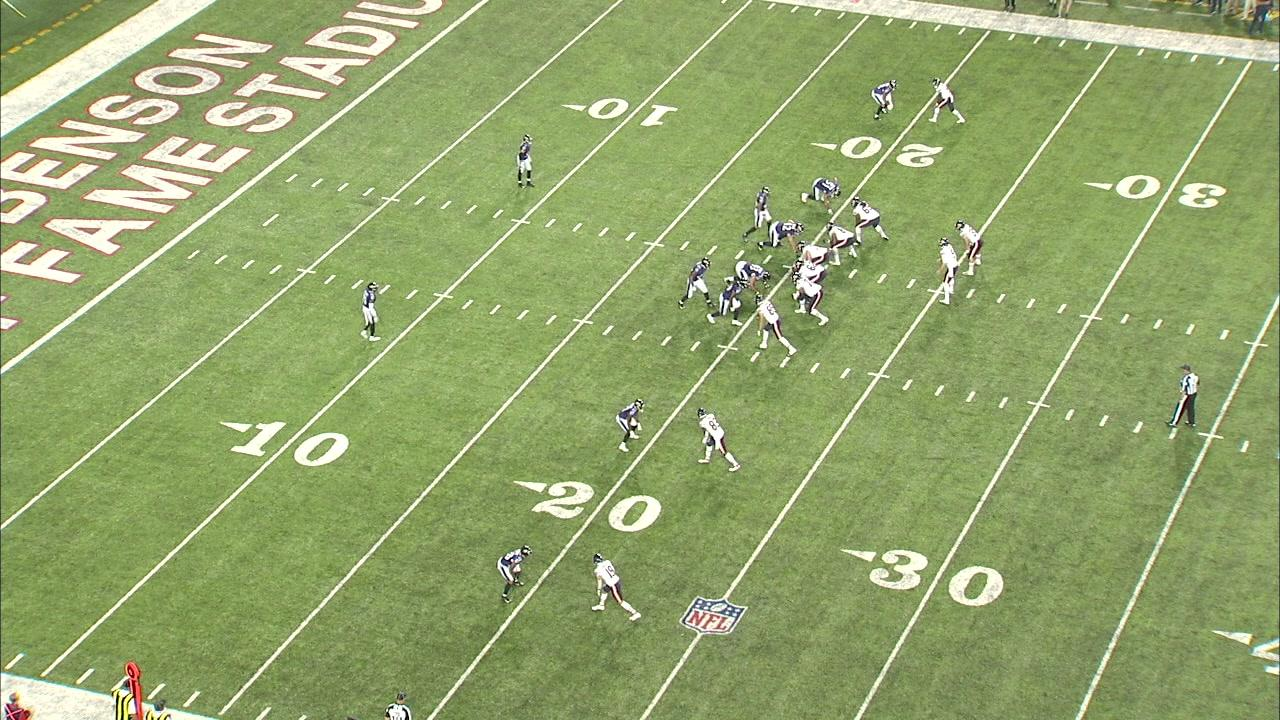five_hash: (1024, 399, 1052, 409), (1196, 430, 1224, 440), (571, 316, 594, 327), (641, 239, 666, 249), (431, 291, 455, 301), (716, 343, 739, 353), (1244, 339, 1267, 349), (294, 267, 319, 276), (866, 371, 891, 380), (1078, 313, 1102, 322), (509, 217, 532, 226), (380, 195, 402, 204), (928, 288, 948, 296)
hash: (1165, 425, 1183, 443), (996, 394, 1012, 410), (1062, 407, 1078, 423), (1130, 419, 1147, 434), (1236, 439, 1253, 454), (308, 175, 326, 189), (900, 377, 915, 393), (807, 360, 822, 375), (1096, 413, 1111, 428), (284, 171, 300, 185), (464, 202, 479, 216), (630, 329, 645, 343), (778, 355, 792, 370), (964, 389, 978, 404), (335, 180, 351, 193), (623, 229, 639, 242), (839, 365, 852, 381), (213, 253, 230, 265), (875, 271, 889, 285), (1217, 328, 1231, 342), (269, 262, 283, 276), (659, 334, 673, 348), (748, 350, 762, 364), (932, 383, 946, 397), (490, 206, 505, 219), (597, 225, 612, 238), (439, 198, 453, 211), (1055, 302, 1068, 316), (1119, 312, 1132, 326), (241, 258, 255, 271), (516, 308, 530, 321), (688, 340, 702, 353), (543, 217, 558, 229), (459, 298, 474, 310), (488, 303, 503, 315), (185, 250, 202, 260), (571, 220, 584, 233), (994, 292, 1007, 305), (1024, 297, 1037, 310), (1184, 323, 1197, 336), (602, 324, 615, 337), (1152, 317, 1164, 331), (544, 313, 558, 325), (847, 267, 859, 280), (323, 273, 336, 285), (361, 186, 375, 197), (413, 195, 427, 206), (350, 279, 364, 290), (706, 244, 718, 256), (734, 248, 745, 261), (904, 278, 917, 289), (964, 288, 977, 299), (405, 289, 419, 299), (679, 240, 691, 251), (761, 254, 773, 265), (378, 284, 390, 295)
marker: (121, 659, 147, 720)
number: (836, 540, 1008, 609), (509, 470, 665, 536), (214, 415, 353, 470), (1084, 172, 1231, 211), (809, 132, 949, 169), (558, 94, 679, 132)
